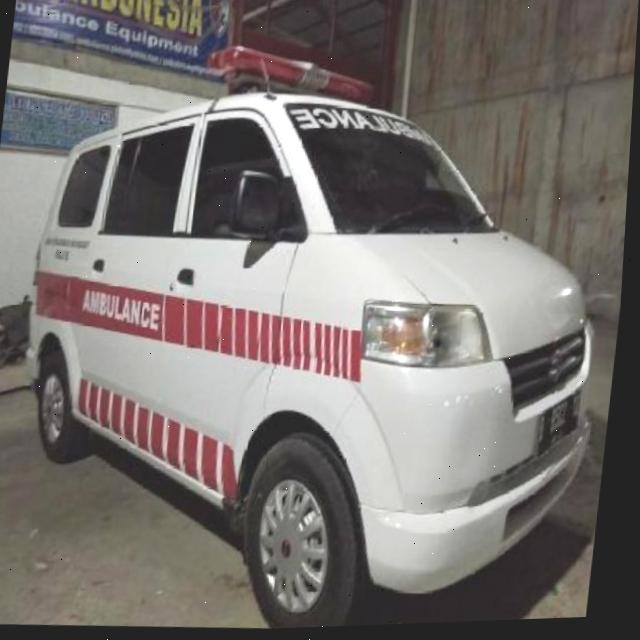emergency: (0, 23, 636, 639)
